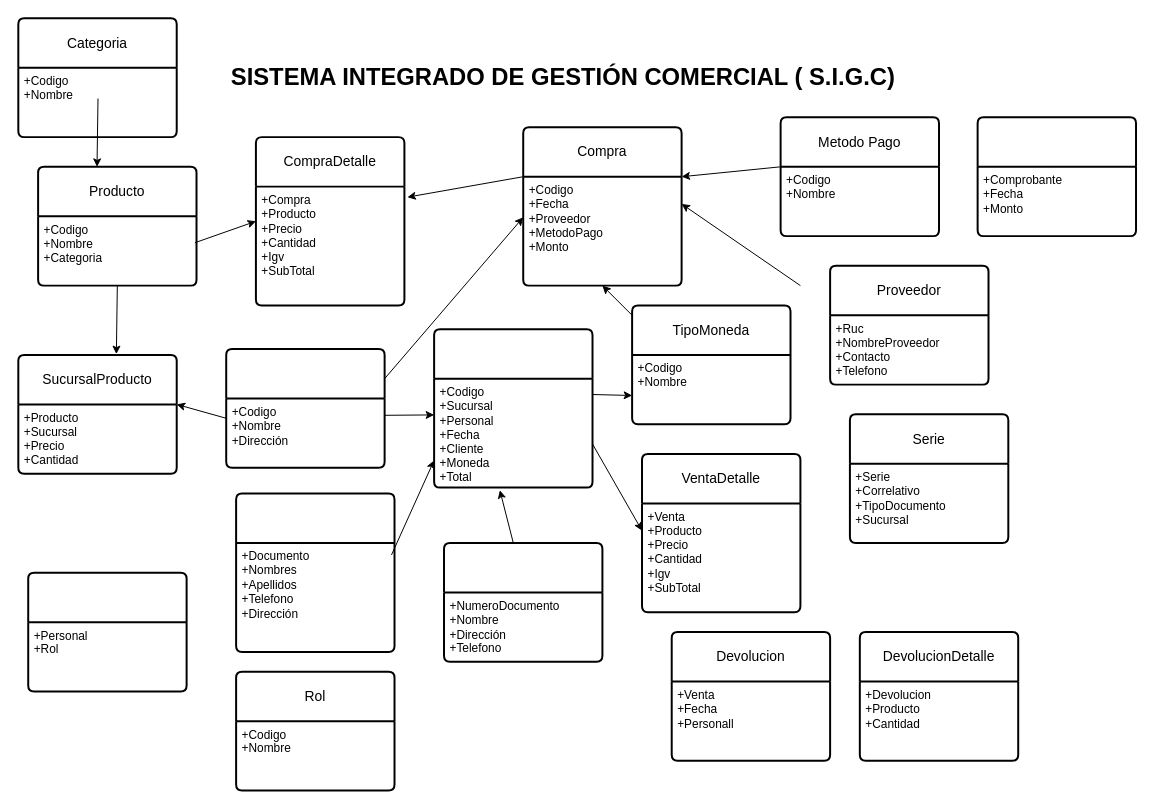
This 1153x808 diagram has some shape labels left out. Here are the shapes that lost their labels. From the top down, the box of each, then its label:
(976, 116, 1137, 237): Pagos
(225, 347, 385, 468): Sucursal
(433, 328, 593, 488): Venta
(235, 492, 395, 652): Personal
(443, 542, 603, 662): Cliente
(27, 571, 187, 692): Permisos
